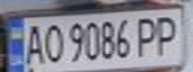0: (81, 18, 100, 62)
6: (112, 16, 136, 60)
8: (100, 17, 118, 61)
9: (63, 19, 84, 63)
A: (21, 20, 48, 65)
O: (39, 20, 66, 64)
P: (151, 11, 184, 57), (133, 14, 163, 58)
